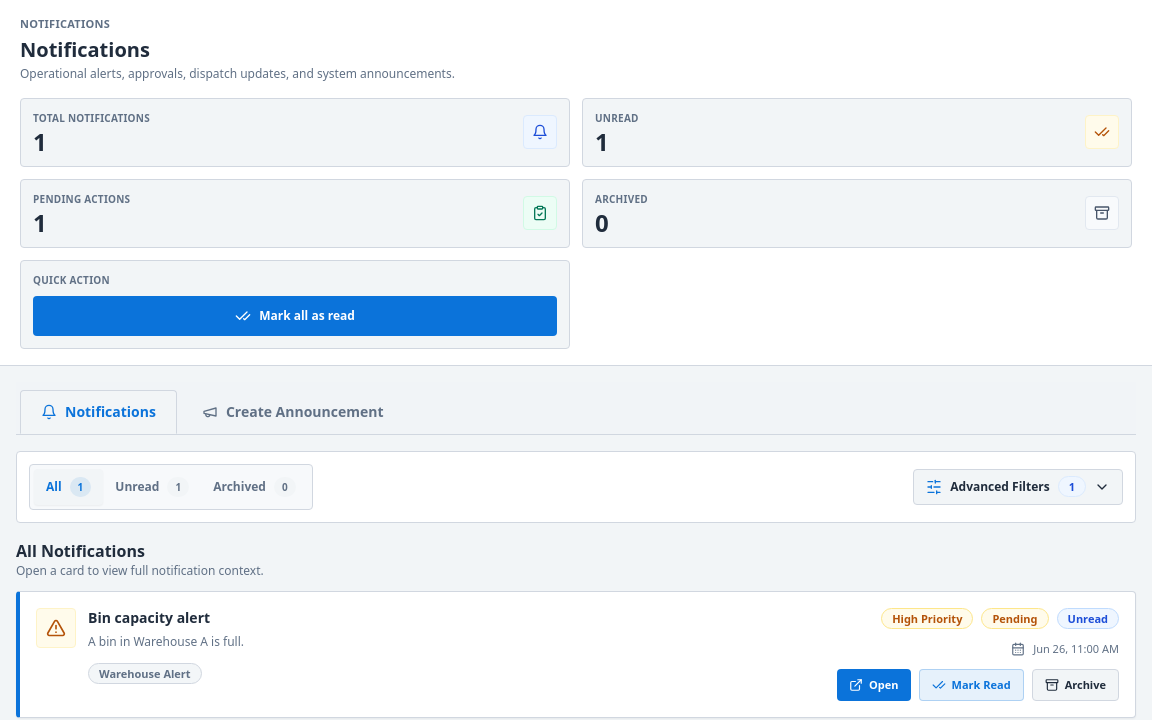
Test: NotificationsPage › renders notifications and the announcement form for system admins
The width and height of the screenshot is (1152, 720).
Expected: the heading "Bin capacity alert" is shown, left=88, top=608, right=210, bottom=628
Expected: the button "Notifications" is shown, left=20, top=390, right=177, bottom=434
Click the button "Create Announcement".
click(293, 412)  # box left=181, top=390, right=404, bottom=434
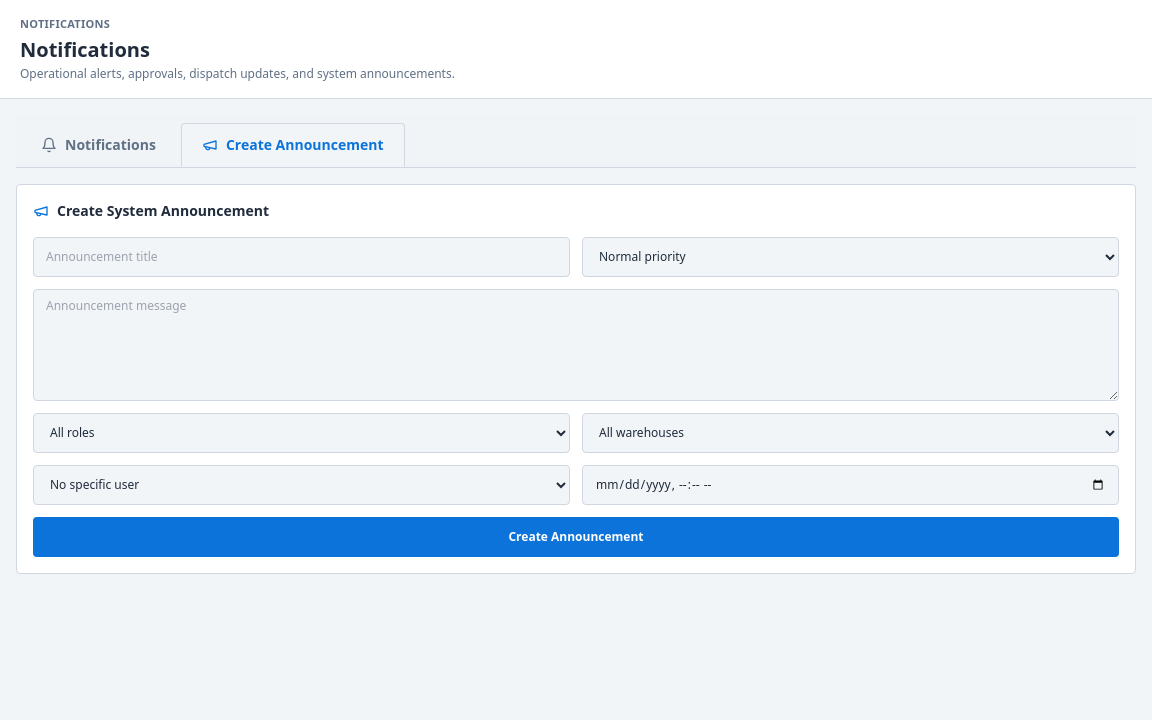
Expected: the heading "Create System Announcement" is shown, left=57, top=200, right=269, bottom=220
Expected: the field with placeholder "Announcement title" is shown, left=33, top=236, right=570, bottom=276
